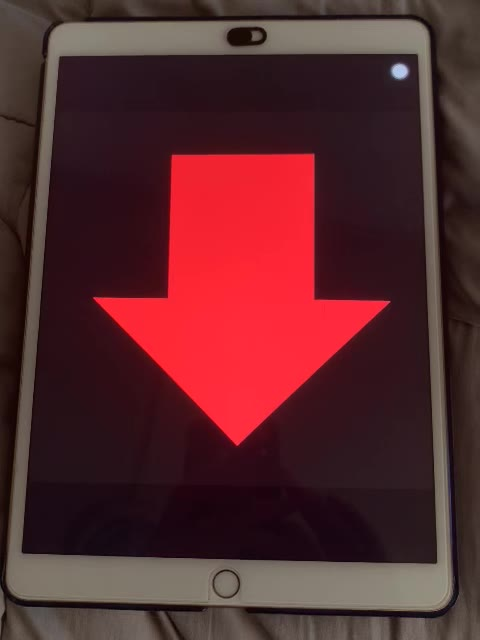down: (89, 149, 393, 450)
